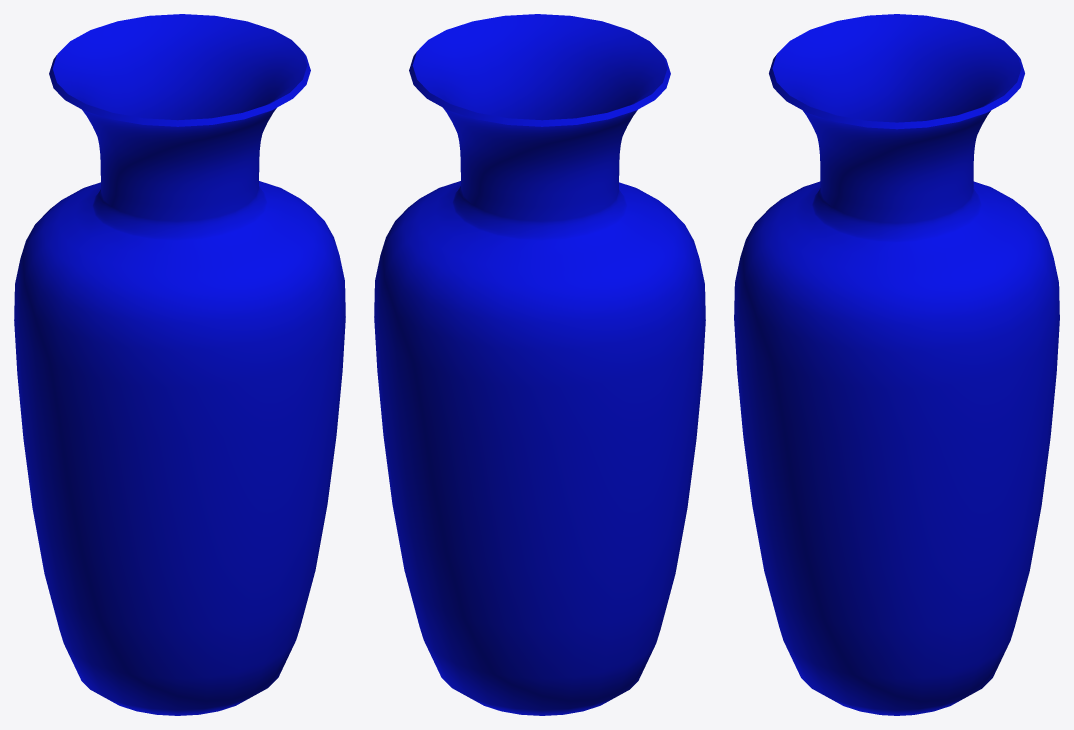
The model's file is vase.FBX.
The picture shows the model from 3 angles, left to right: view 1: azimuth 30°, elevation 25°; view 2: azimuth 150°, elevation 25°; view 3: azimuth 270°, elevation 25°; orthographic projection.
Visible parts, largest first — view 1: Vasi; view 2: Vasi; view 3: Vasi.
Part boxes in pixels (<box>): Vasi: <box>14,14,345,715</box>; Vasi: <box>374,14,705,715</box>; Vasi: <box>734,14,1059,715</box>.
Bounding box in the file's own units: 149 × 303 × 146.
